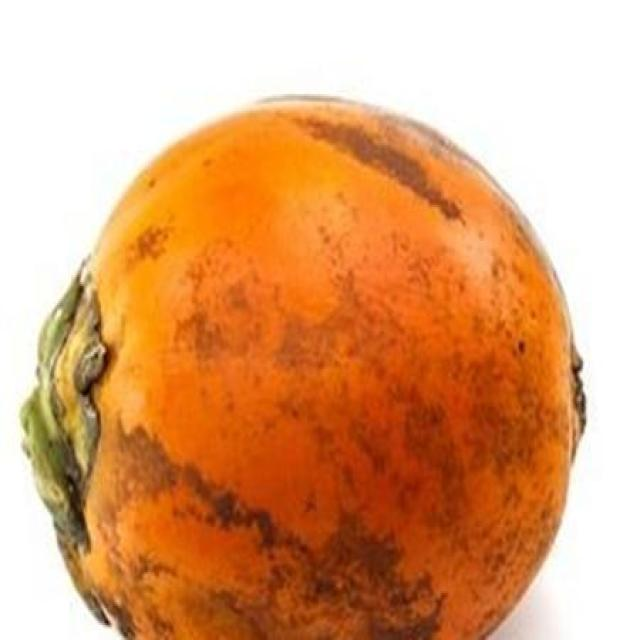good: (18, 98, 586, 638)
